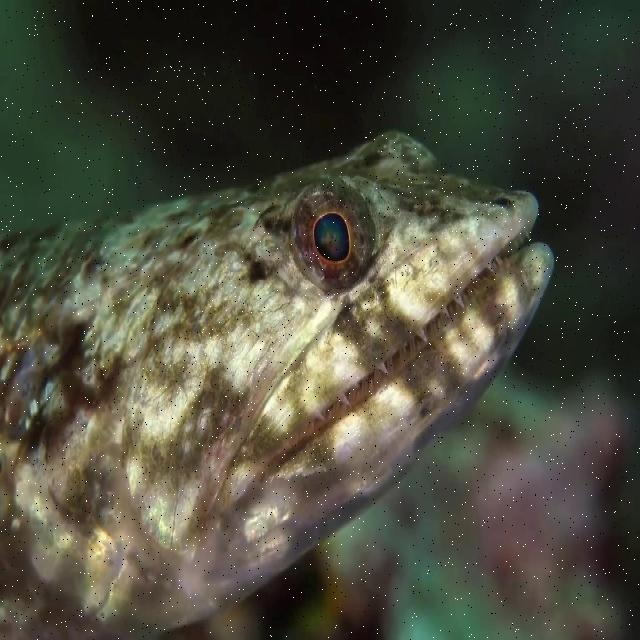fish: (0, 126, 555, 639)
